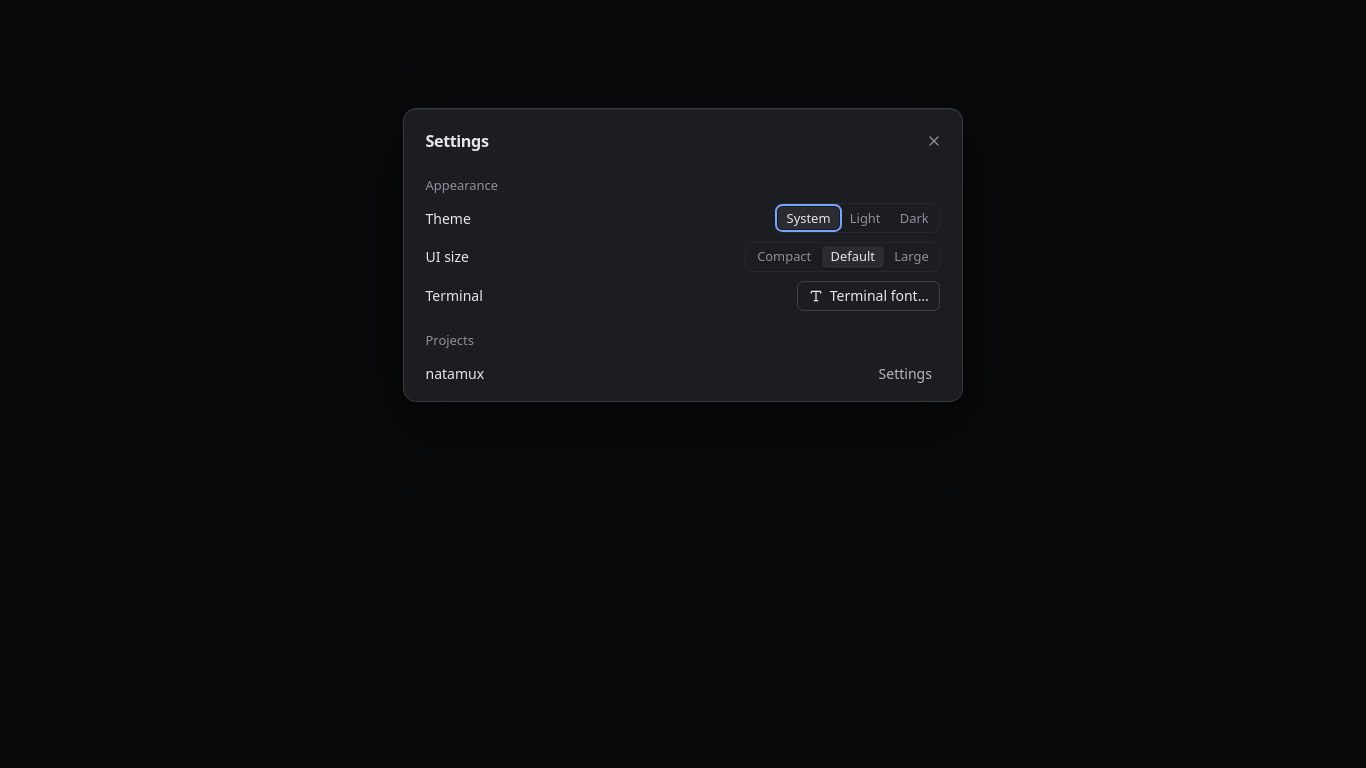
the settings dialog › opens the terminal font dialog in its place
Click the button "Terminal font…" at (869, 296), box [798,281,940,311]
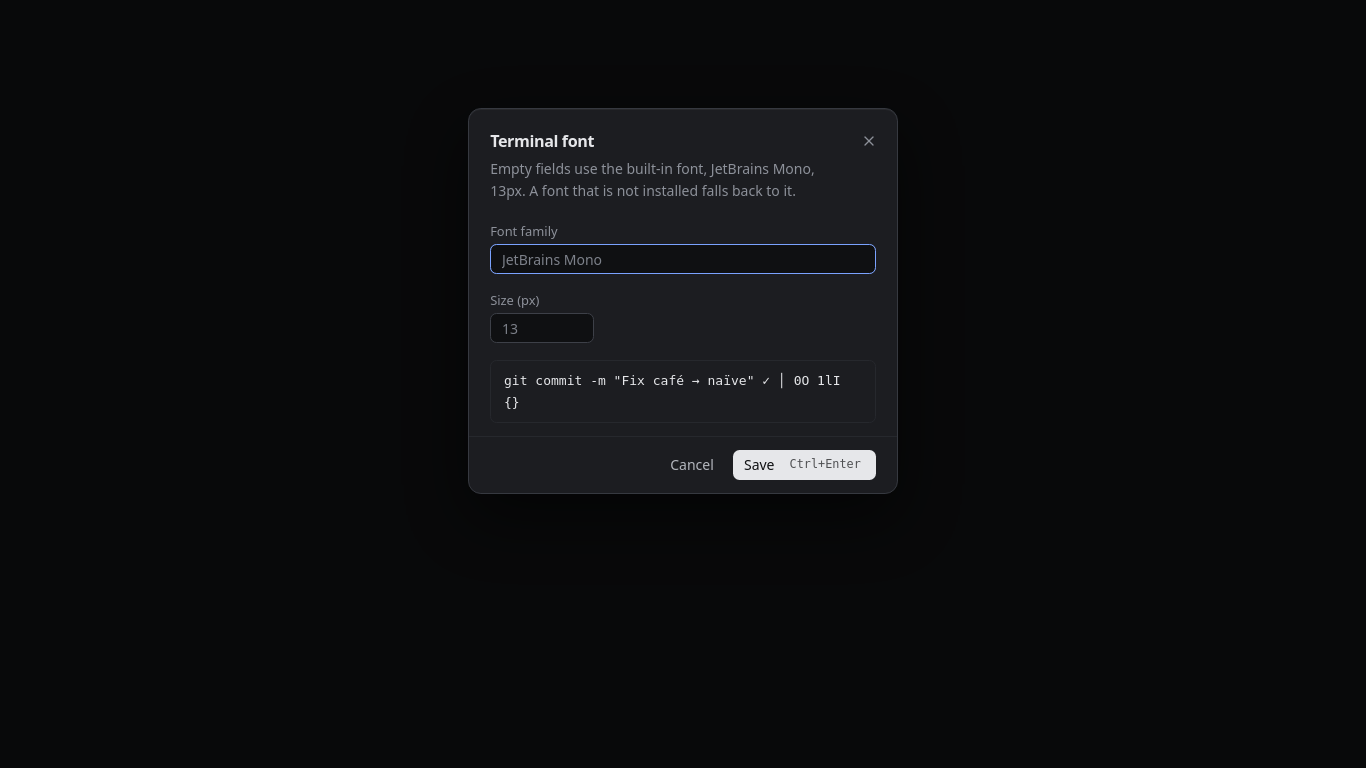
Expected: the dialog "Terminal font" is shown, [468,108,898,494]
Expected: the heading "Settings" is gone
